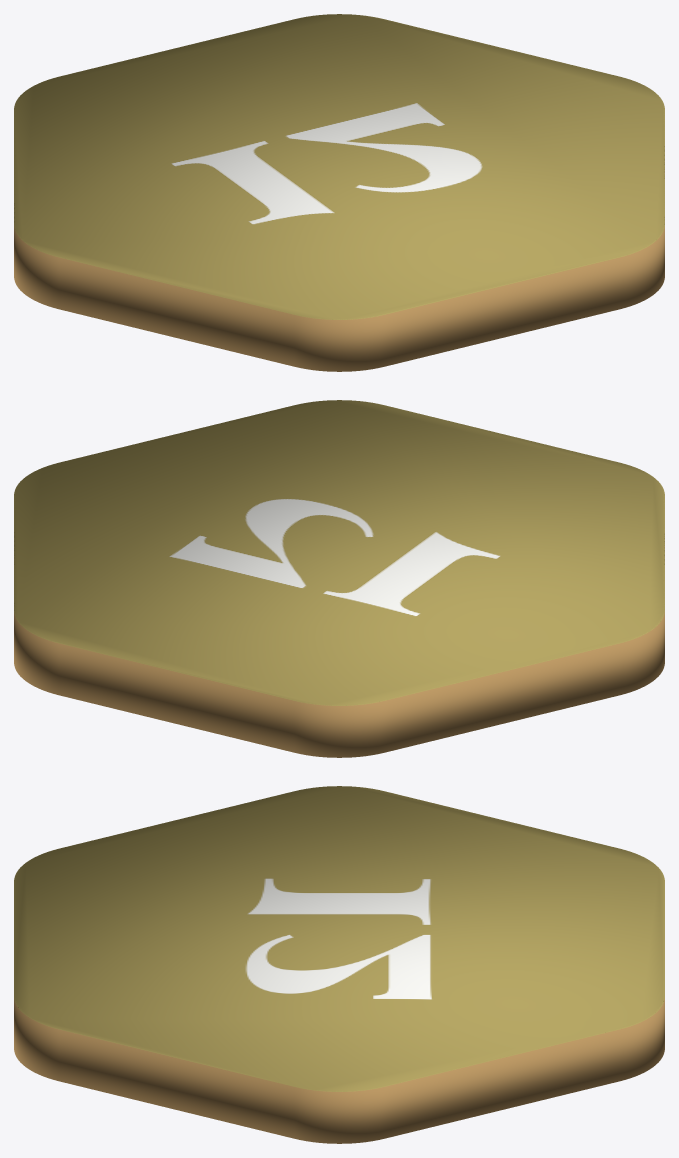
File: hex_12.glb
The picture shows the model from 3 angles, top to bottom: view 1: azimuth 30°, elevation 25°; view 2: azimuth 150°, elevation 25°; view 3: azimuth 270°, elevation 25°; orthographic projection.
Visible parts, largest first — view 1: hex_12; view 2: hex_12; view 3: hex_12.
Boxes of the visible parts, x1,y1,x2,y2 form: hex_12: (14, 14, 664, 371); hex_12: (14, 400, 664, 757); hex_12: (14, 786, 664, 1143).
Bounding box in the file's own units: 0.0304 × 0.0024 × 0.0273.
Materials: 2 (1 with a texture image).
